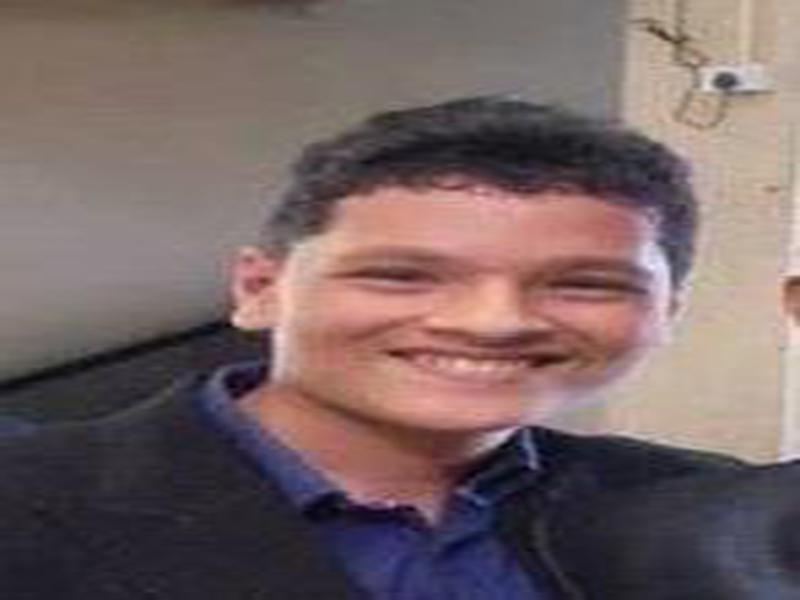without_mask: (282, 195, 668, 434)
